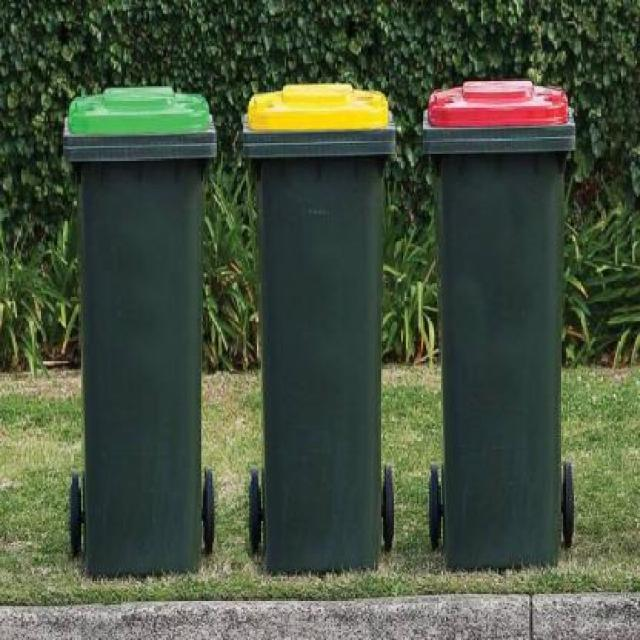garbage container: (410, 61, 590, 592), (50, 78, 235, 592), (237, 76, 408, 578)
